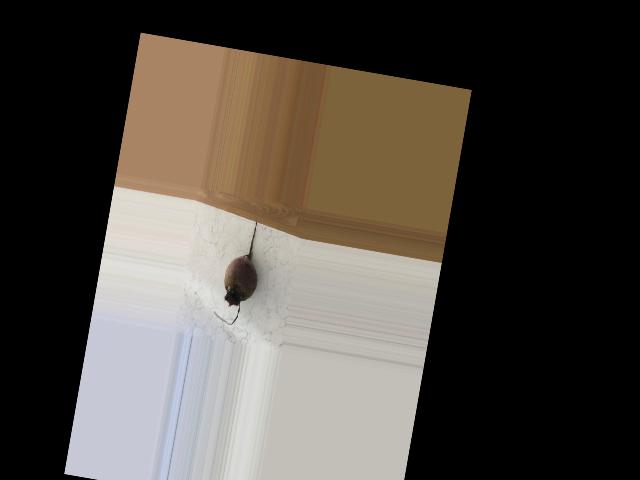beet: (212, 215, 268, 327)
